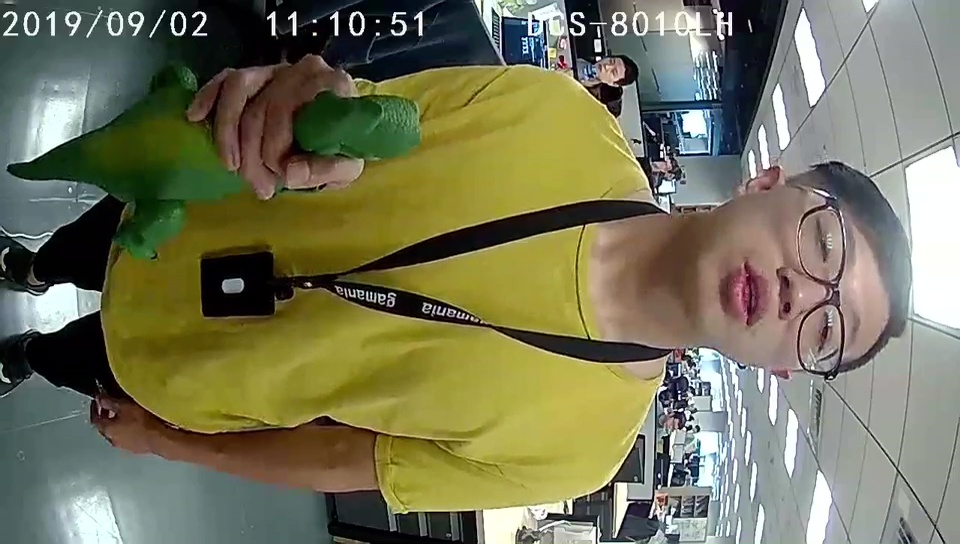rex: (111, 94, 420, 259)
